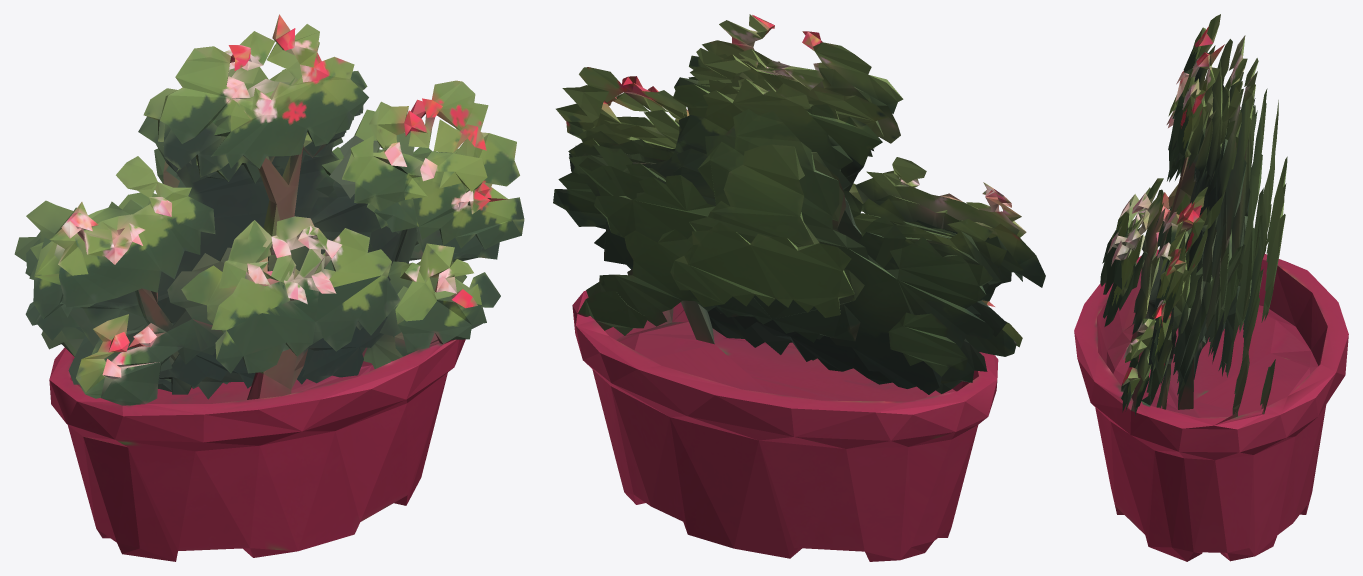
File: potted_plant_b.glb
3 views of the same model, side by side, from view 1: azimuth 30°, elevation 25°; view 2: azimuth 150°, elevation 25°; view 3: azimuth 270°, elevation 25° (orthographic). The views are drawn at different scales.
Parts seen in each view (by area): view 1: potted_plant_b; view 2: potted_plant_b; view 3: potted_plant_b.
Boxes of the visible parts, x1,y1,x2,y2 form: potted_plant_b: (14,14,524,561); potted_plant_b: (553,14,1045,561); potted_plant_b: (1074,14,1348,561).
Bounding box in the file's own units: 0.5212 × 0.5 × 0.269.
1 material, 1 textured.
